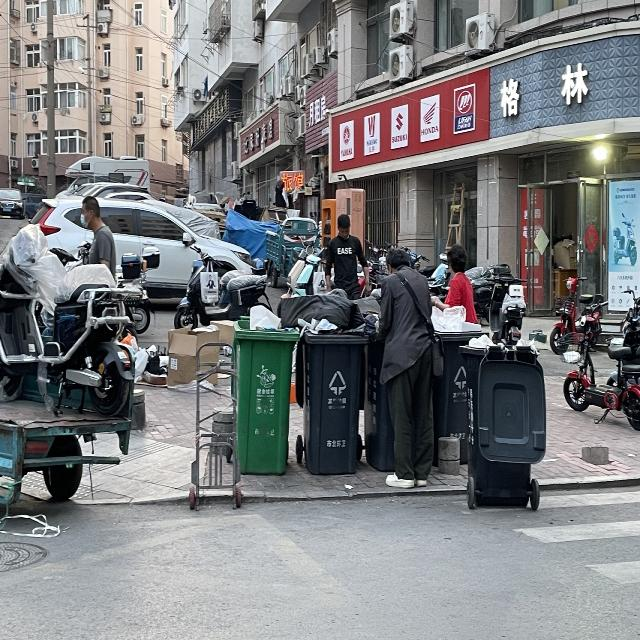overflow: (277, 288, 363, 470), (457, 333, 546, 508), (230, 304, 300, 474), (430, 305, 487, 465)
